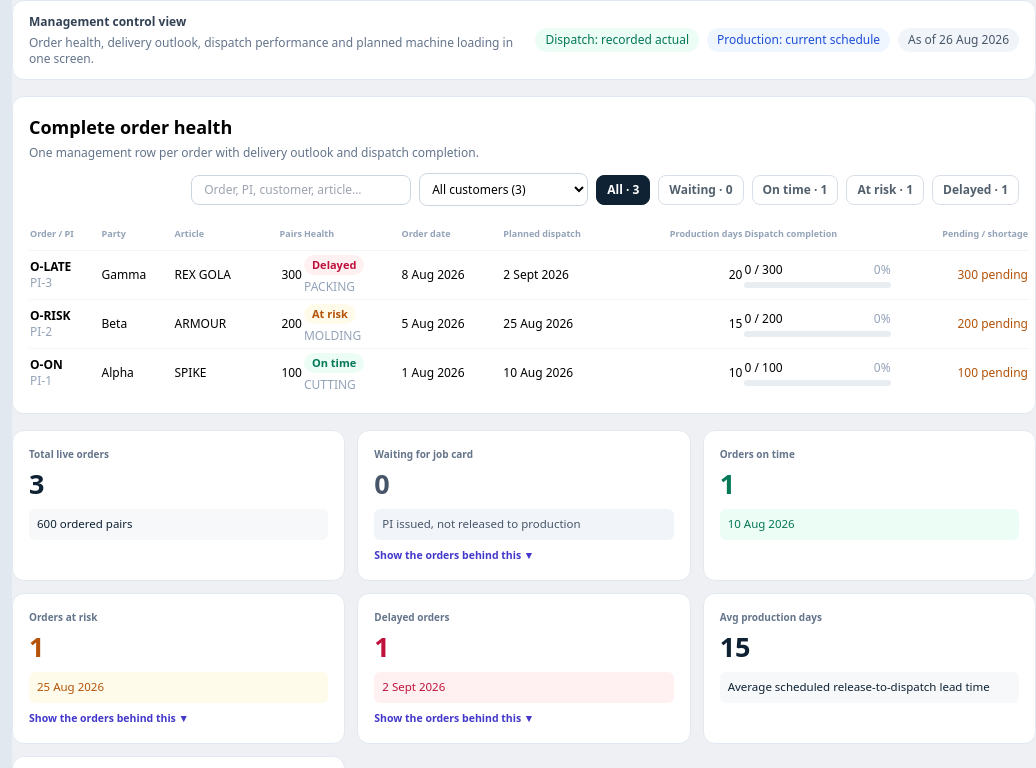
Test: the dashboard answers by customer, and says why › filters the board to one customer
Expected: the text "O-ON" is shown, [30,356,63,373]
Select "Beta · 200 pr · 1 late" in the dropdown named "Customer" at [504, 190], box [419,173,588,206]
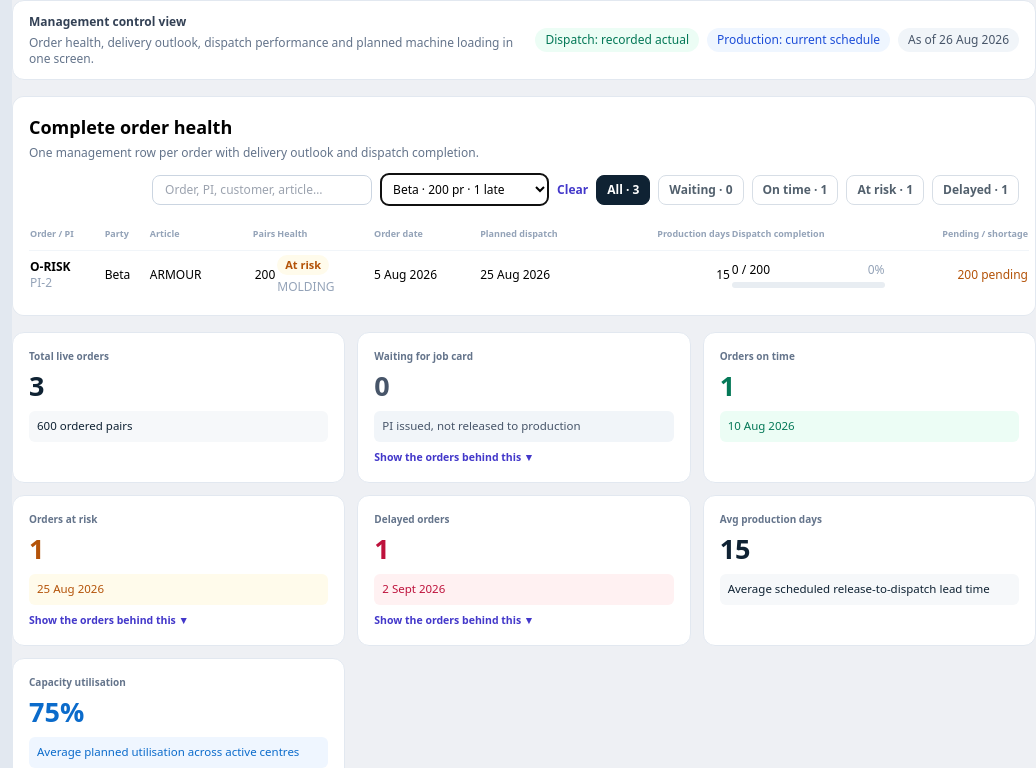
Expected: the text "O-RISK" is shown, [30,258,71,275]
Now the text "O-ON" is gone
Now the text "O-LATE" is gone
